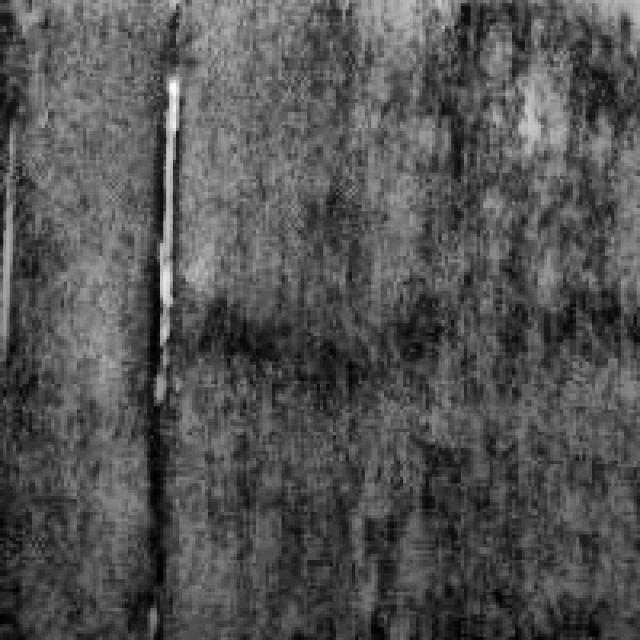Inclusion: (144, 68, 182, 406)
